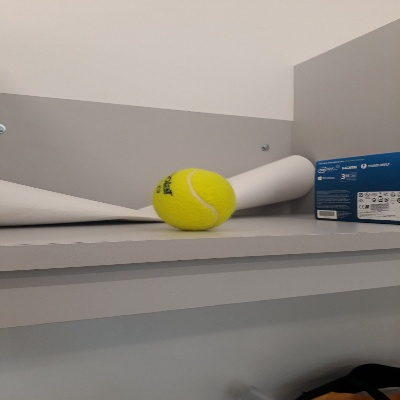Ball: (153, 169, 237, 232)
